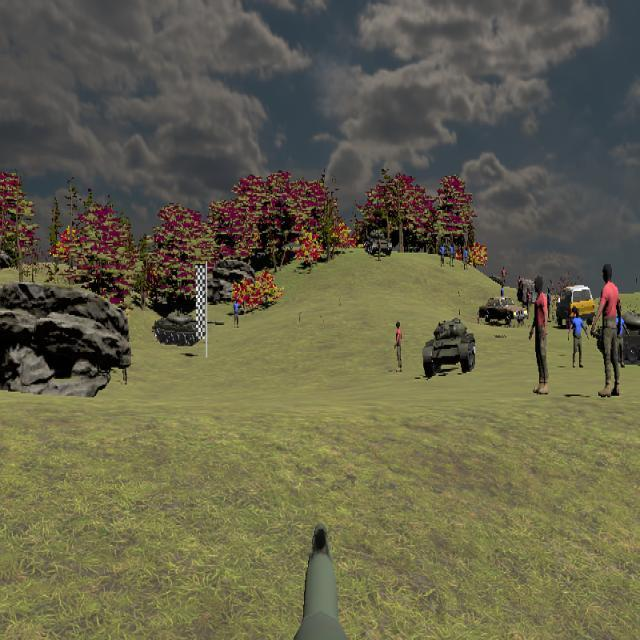Human: (593, 264, 624, 399), (530, 282, 550, 395), (568, 307, 589, 369), (615, 299, 630, 379), (393, 319, 403, 374)
Tank: (422, 316, 476, 378), (600, 300, 640, 380), (152, 310, 224, 347), (364, 229, 392, 257)
car: (555, 283, 594, 330), (478, 296, 527, 326)
